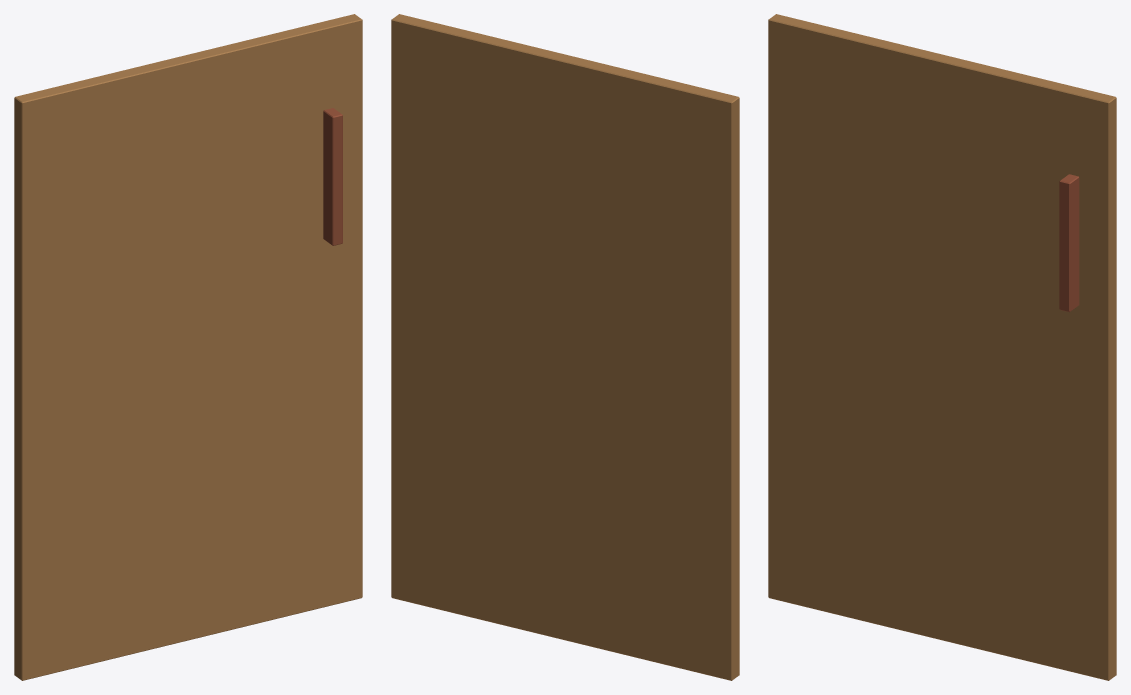
Rendered from solidwood_shelving_base_cabinet_left_door.glb.
3 views of the same model, side by side, from view 1: azimuth 30°, elevation 25°; view 2: azimuth 150°, elevation 25°; view 3: azimuth 330°, elevation 25° (orthographic).
Visible parts, largest first — view 1: solidwood_shelving_base_cabinet_left_door.001; view 2: solidwood_shelving_base_cabinet_left_door.001; view 3: solidwood_shelving_base_cabinet_left_door.001.
Boxes of the visible parts, <box> form: solidwood_shelving_base_cabinet_left_door.001: <box>14,14,362,680</box>; solidwood_shelving_base_cabinet_left_door.001: <box>391,14,739,680</box>; solidwood_shelving_base_cabinet_left_door.001: <box>768,14,1116,680</box>.
Bounding box in the file's own units: 0.4415 × 0.716 × 0.04.
